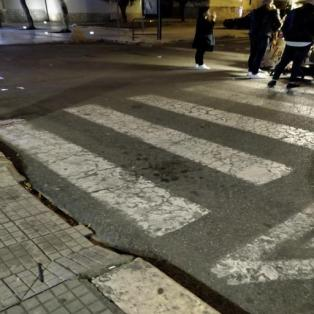Paso de Cebra: (56, 90, 314, 189)
